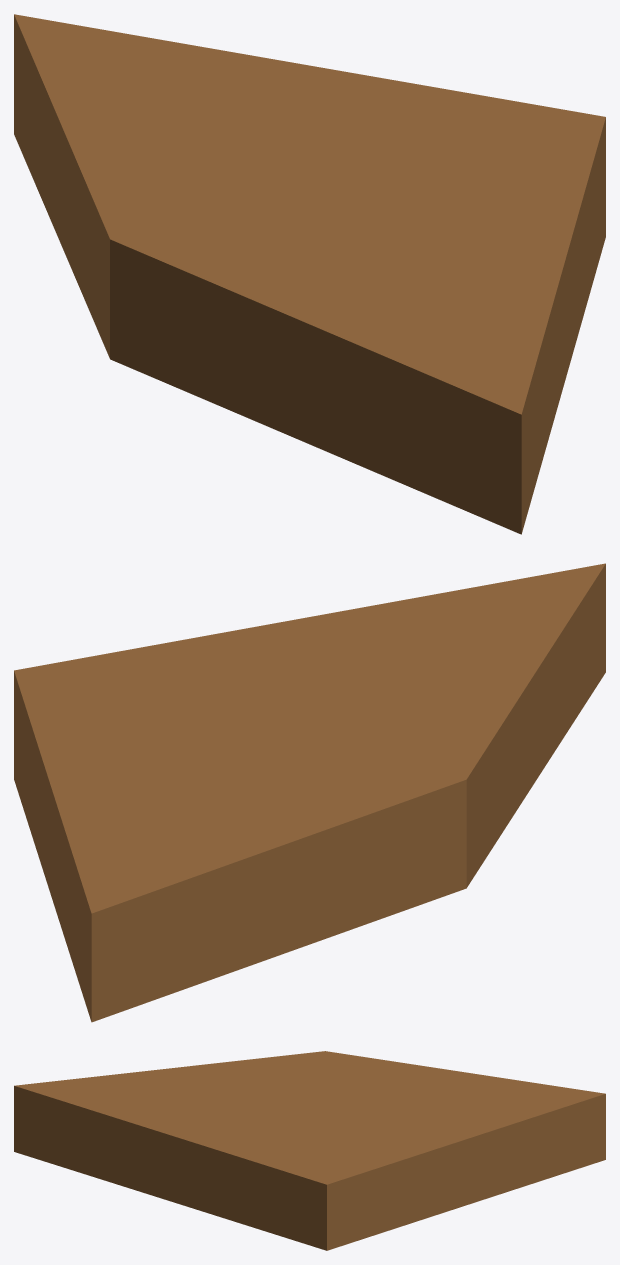
Rendered from x_proval_00_254_1_rmstrd.fbx.
The picture shows the model from 3 angles, top to bottom: view 1: azimuth 30°, elevation 25°; view 2: azimuth 150°, elevation 25°; view 3: azimuth 270°, elevation 25°; orthographic projection. The views are drawn at different scales.
Visible parts, largest first — view 1: x_proval_00_254_1_rmstrd1; view 2: x_proval_00_254_1_rmstrd1; view 3: x_proval_00_254_1_rmstrd1.
Boxes of the visible parts, box(x1,y1,x2,y2) form: x_proval_00_254_1_rmstrd1: box(14, 14, 605, 534); x_proval_00_254_1_rmstrd1: box(14, 563, 605, 1022); x_proval_00_254_1_rmstrd1: box(14, 1051, 605, 1250).
Bounding box in the file's own units: 0.8673 × 0.2 × 1.62.
